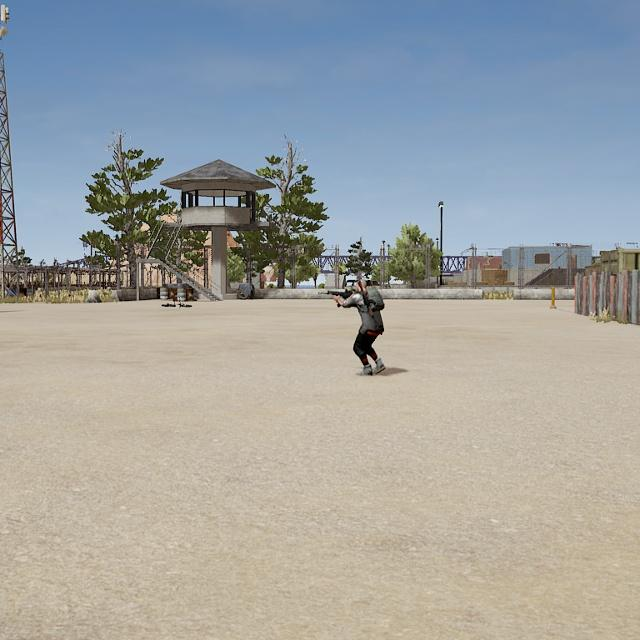head: (353, 276, 368, 292)
people: (340, 276, 387, 378)
